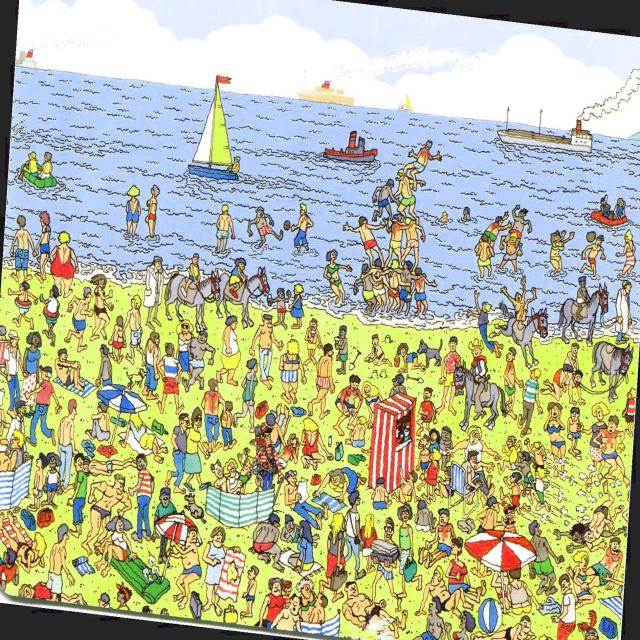waldo: (260, 422, 273, 445)
